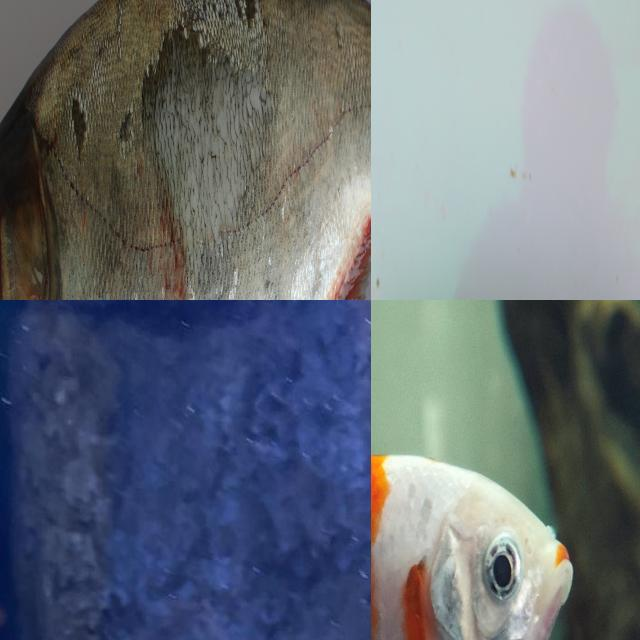fish: (0, 0, 371, 300), (371, 300, 513, 640)
